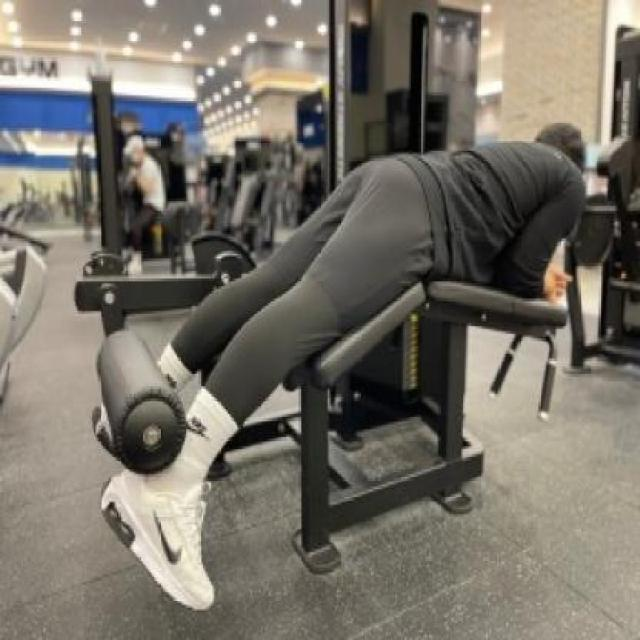reg curl machine: (86, 0, 597, 614)
